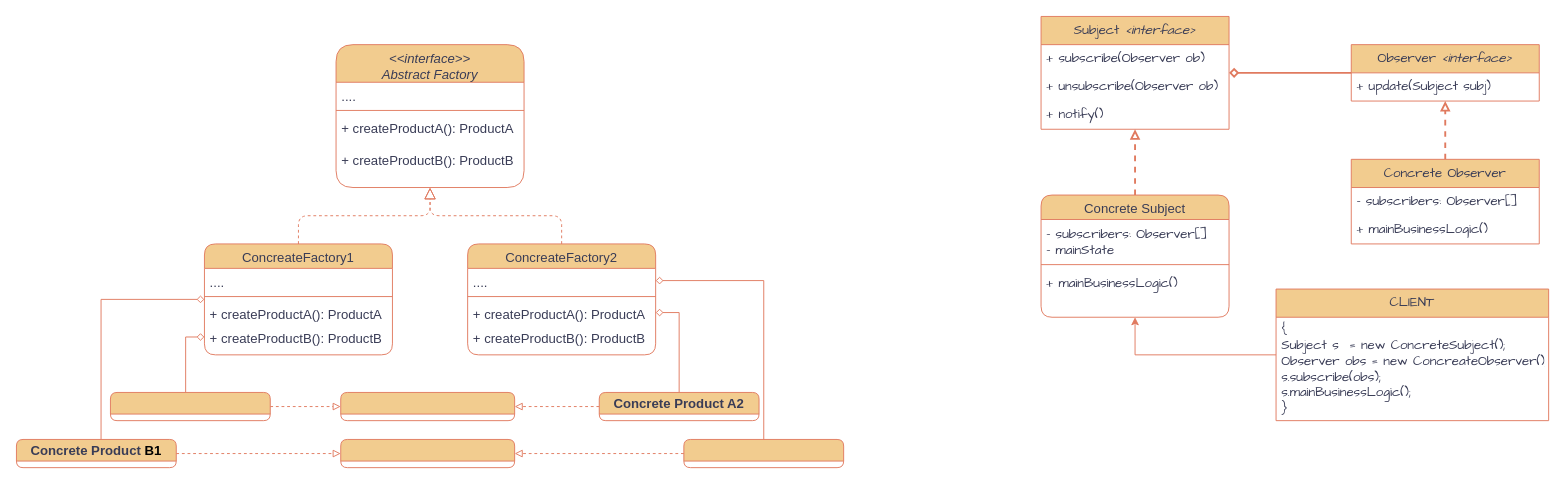
The diagram is 1565 pixels wide and 484 high, and some of its shapes have lost their labels. Each missing label, with the centre of its shape:
Concrete Product A1: [190,406]
Concrete Product B2: [763,453]
Product A <<interface>>: [427,406]
Product B <<interface>>: [427,453]
